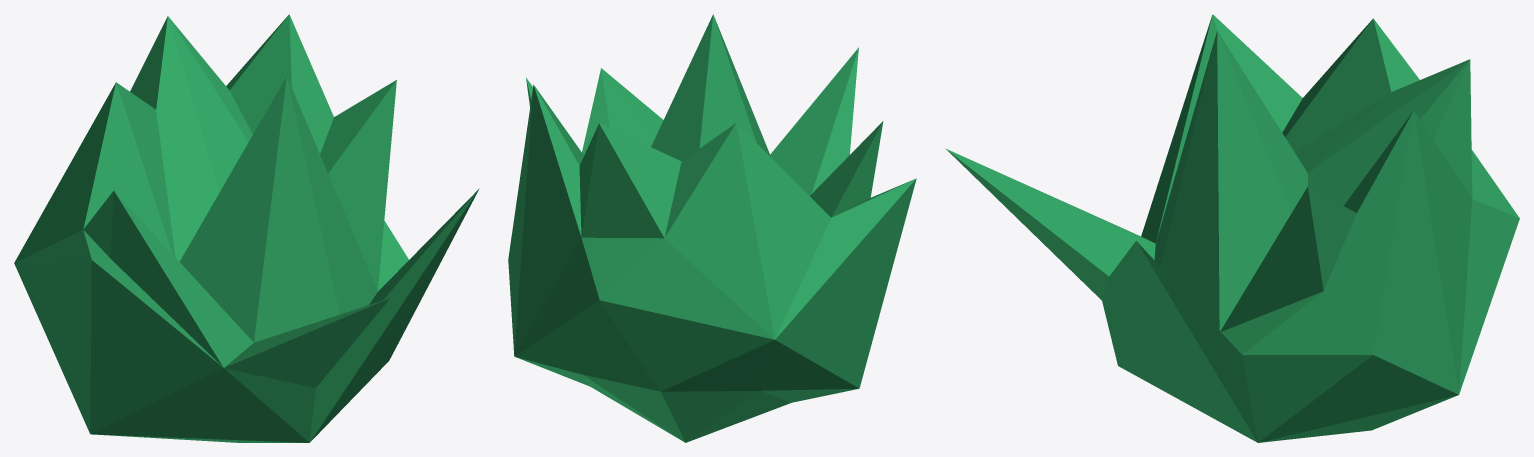
The model's file is bush8.fbx.
3 renders of one model, left to right at view 1: azimuth 30°, elevation 25°; view 2: azimuth 150°, elevation 25°; view 3: azimuth 270°, elevation 25°, orthographic. The views are drawn at different scales.
Parts seen in each view (by area): view 1: bush8; view 2: bush8; view 3: bush8.
Part boxes in pixels (box(x1,y1,x2,y2)): bush8: box(14, 14, 479, 442); bush8: box(508, 14, 916, 442); bush8: box(945, 14, 1519, 442).
Bounding box in the file's own units: 69.24 × 71.97 × 90.39.
